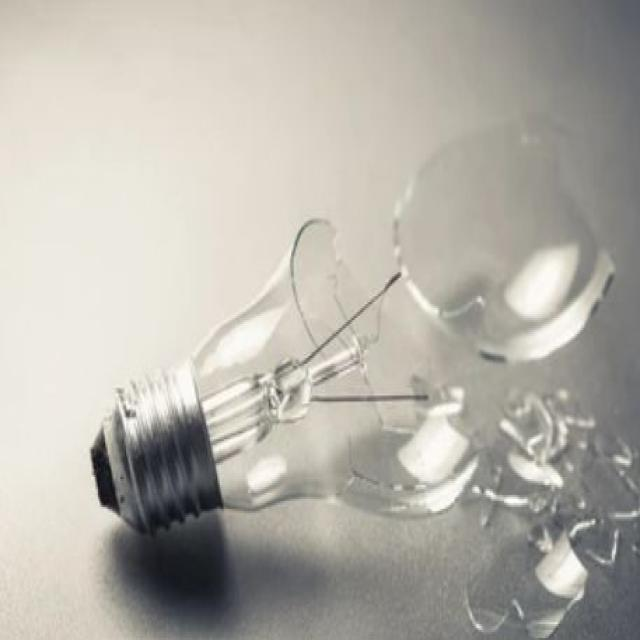electronic: (88, 214, 480, 536), (391, 111, 616, 364)
